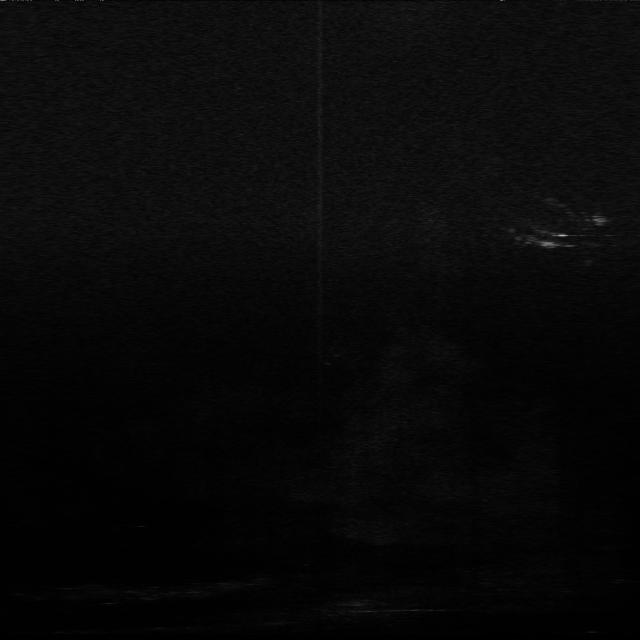rov: (588, 212, 612, 229)
